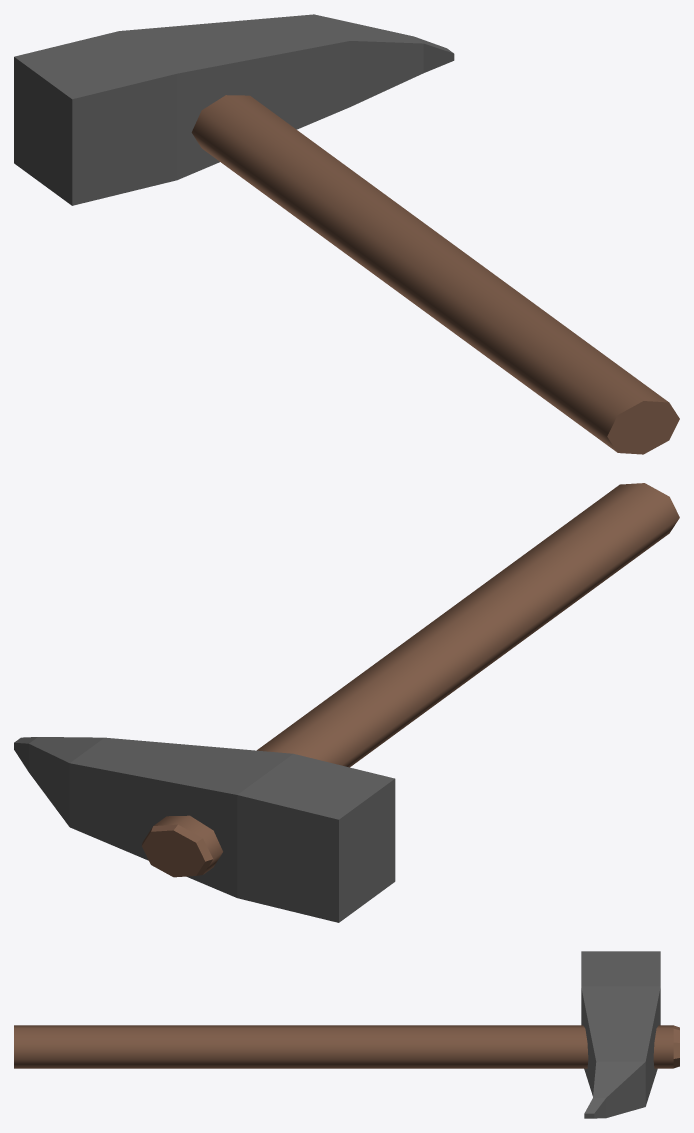
The model's file is SM_hammer.fbx.
3 views of the same model, one above another, from view 1: azimuth 30°, elevation 25°; view 2: azimuth 150°, elevation 25°; view 3: azimuth 270°, elevation 25° (orthographic). The views are drawn at different scales.
Visible parts, largest first — view 1: hammer; view 2: hammer; view 3: hammer.
Part boxes in pixels (x1,y1,x2,y2): hammer: (14,14,679,454); hammer: (14,483,679,922); hammer: (14,951,679,1118).
Bounding box in the file's own units: 32.37 × 8.58 × 71.02.
